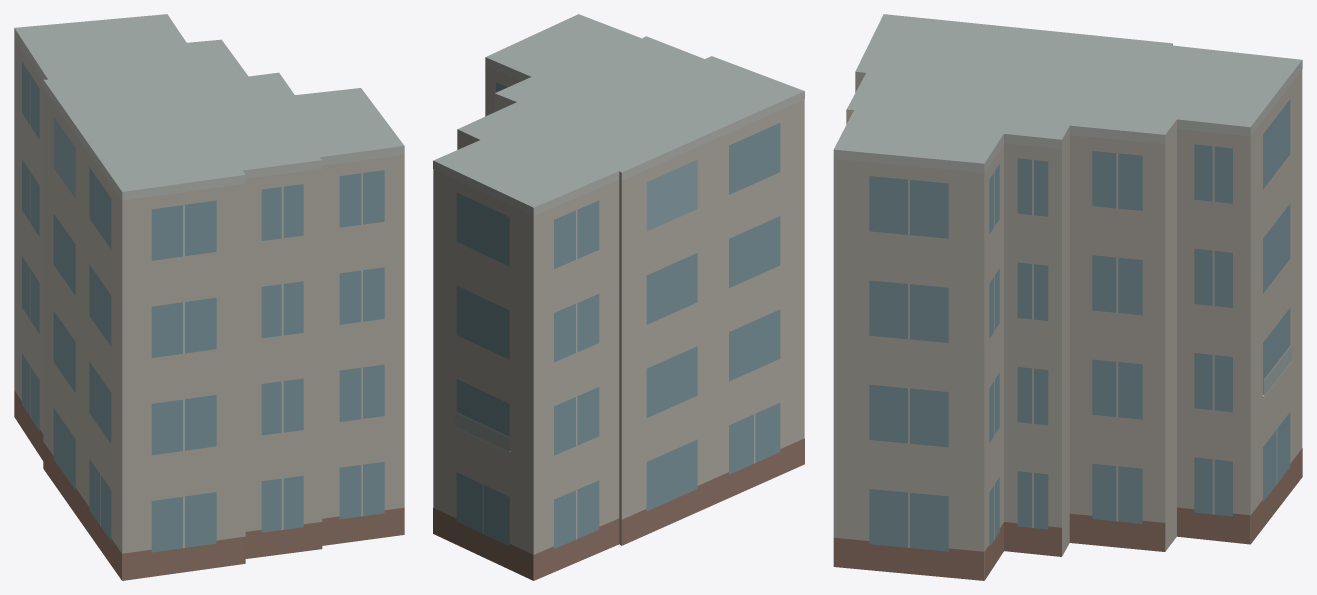
Rendered from survey-upis-32796292.glb.
The picture shows the model from 3 angles, left to right: view 1: azimuth 30°, elevation 25°; view 2: azimuth 150°, elevation 25°; view 3: azimuth 270°, elevation 25°; orthographic projection. The views are drawn at different scales.
Parts seen in each view (by area): view 1: survey-upis-32796292.tmp; view 2: survey-upis-32796292.tmp; view 3: survey-upis-32796292.tmp.
Boxes of the visible parts, box(x1,y1,x2,y2) form: survey-upis-32796292.tmp: box(14, 14, 404, 580); survey-upis-32796292.tmp: box(433, 14, 804, 580); survey-upis-32796292.tmp: box(833, 14, 1302, 580).
Size of the model in its own units: 8.36 by 10.85 by 11.06.
